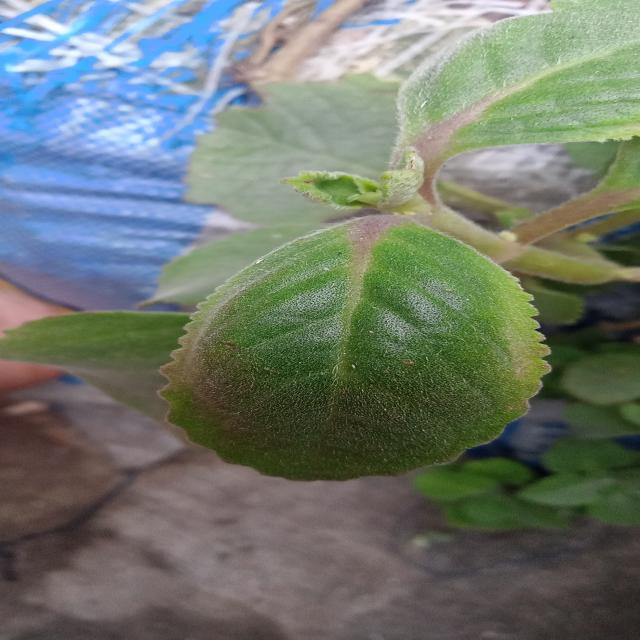Oregano: (158, 203, 575, 489)
